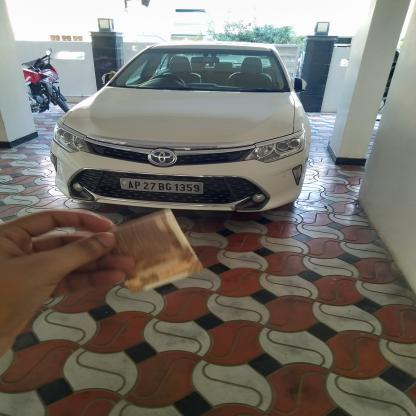New10Back: (110, 214, 190, 276)
